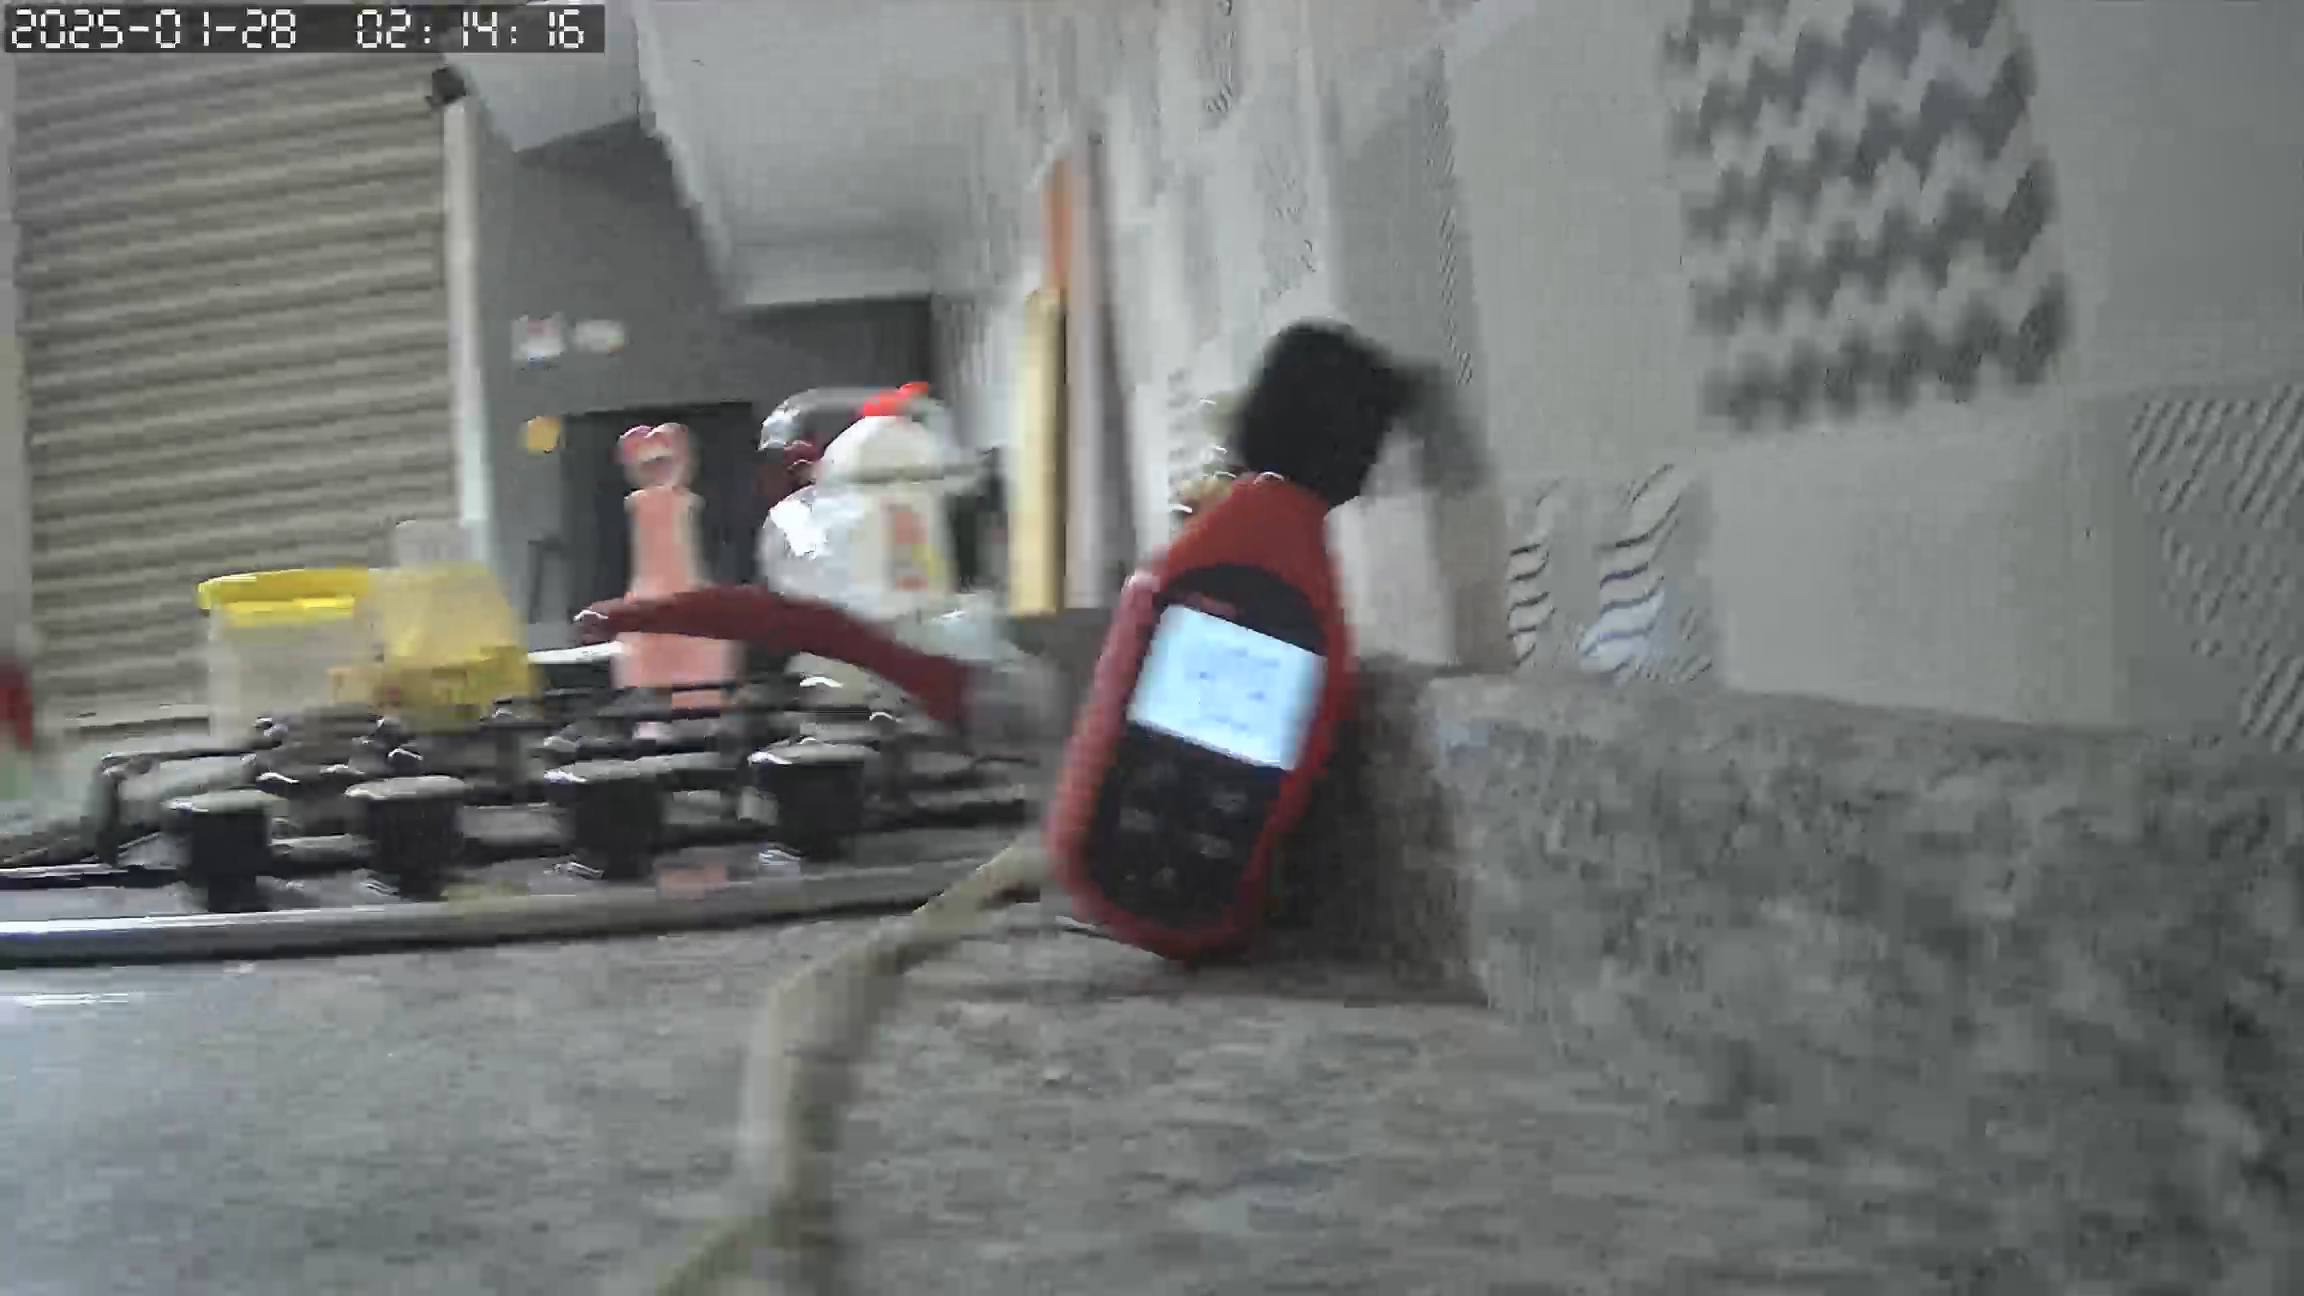screen: (1127, 606, 1328, 775)
